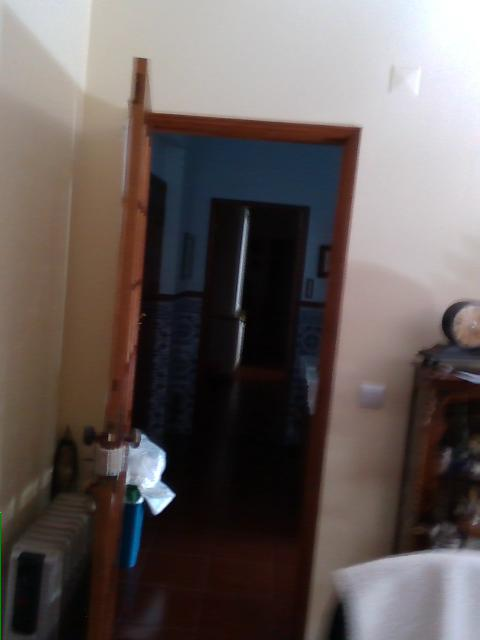open_door: (119, 108, 362, 634)
